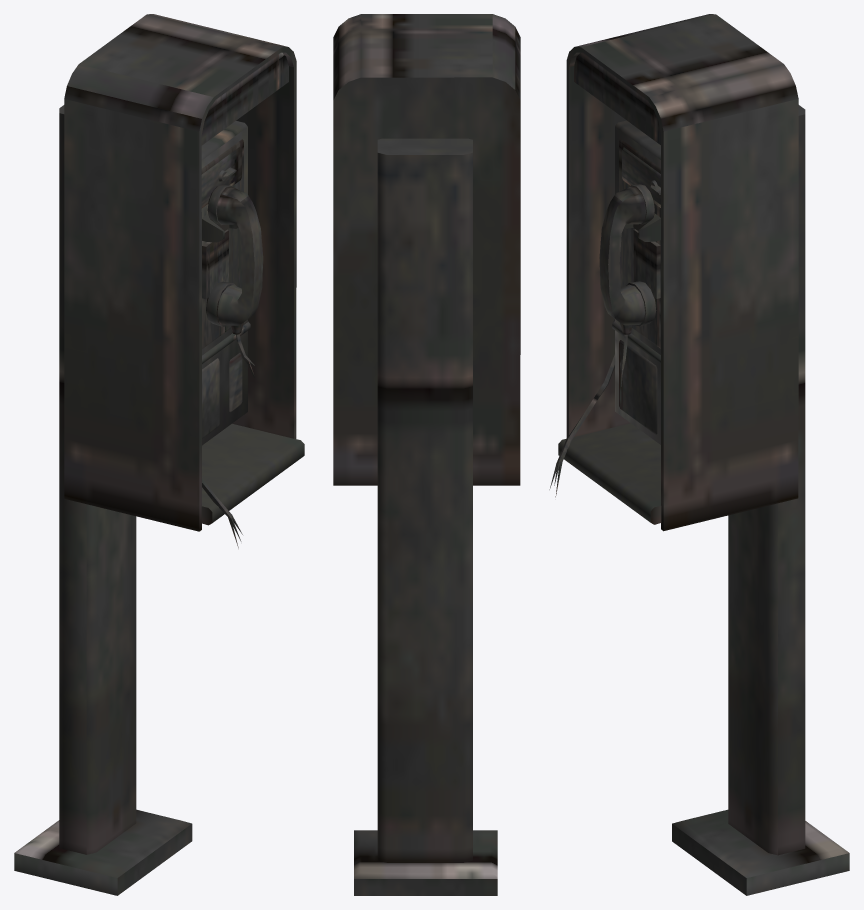
The model's file is Phone.fbx.
3 views of the same model, side by side, from view 1: azimuth 30°, elevation 25°; view 2: azimuth 150°, elevation 25°; view 3: azimuth 270°, elevation 25° (orthographic). The views are drawn at different scales.
Parts seen in each view (by area): view 1: Phone.001; view 2: Phone.001; view 3: Phone.001.
Boxes of the visible parts, bbox=[...] form: Phone.001: bbox=[14, 14, 304, 895]; Phone.001: bbox=[333, 14, 520, 895]; Phone.001: bbox=[549, 14, 849, 895].
Size of the model in its own units: 0.4302 by 1.48 by 0.491.
1 material, 1 textured.
